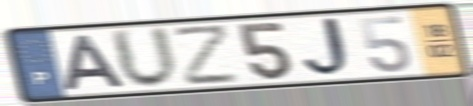5: (234, 21, 295, 83), (356, 14, 414, 74)
A: (60, 33, 130, 93)
J: (301, 15, 359, 80)
U: (107, 23, 183, 91)
Z: (171, 22, 242, 88)
